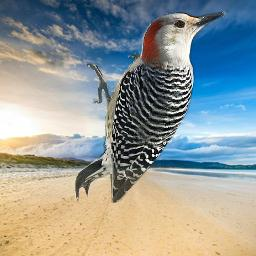Woodpecker: (75, 10, 228, 203)
